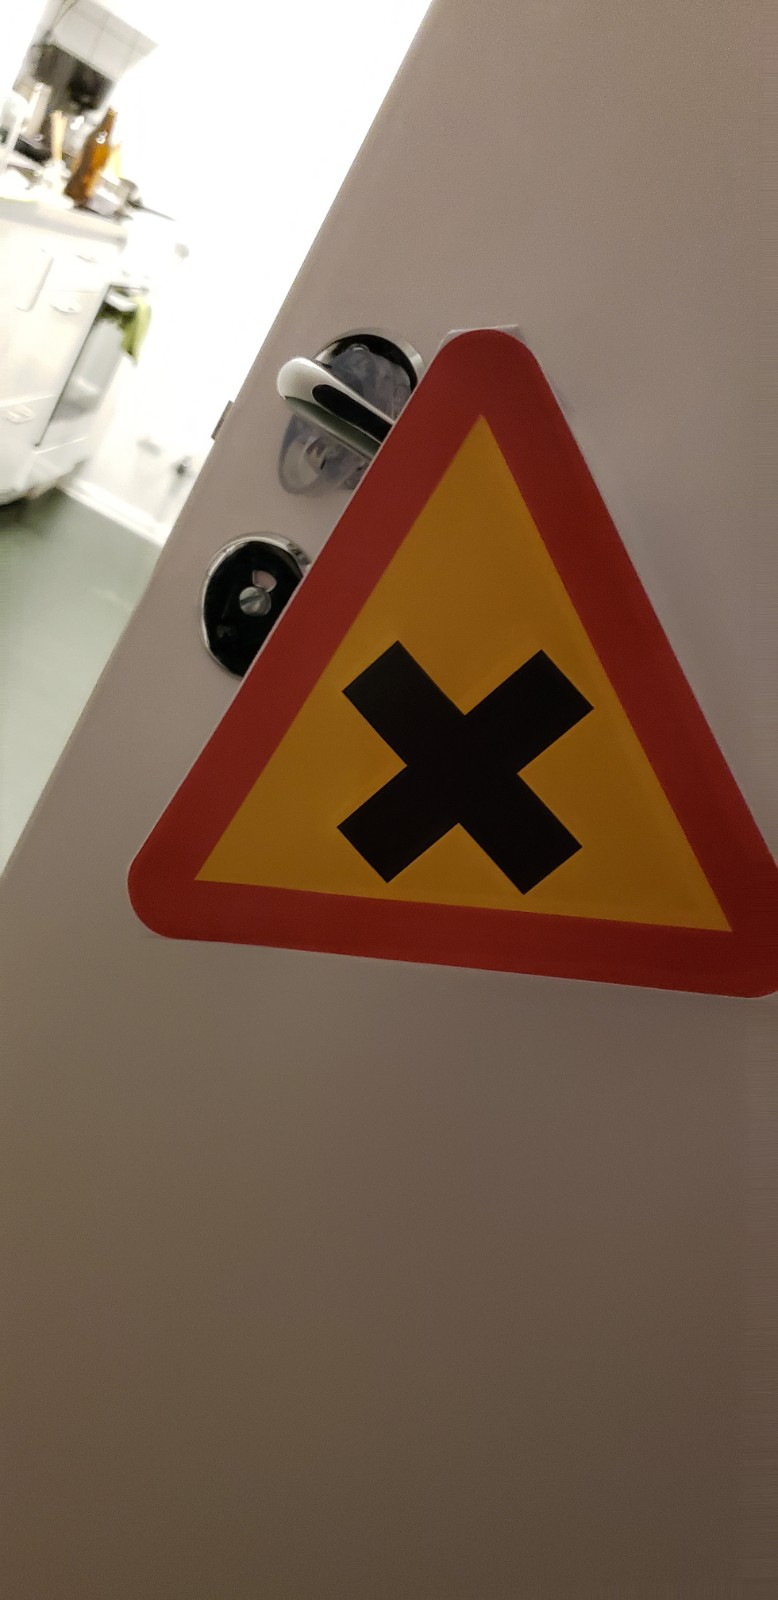junction: (134, 300, 778, 1008)
